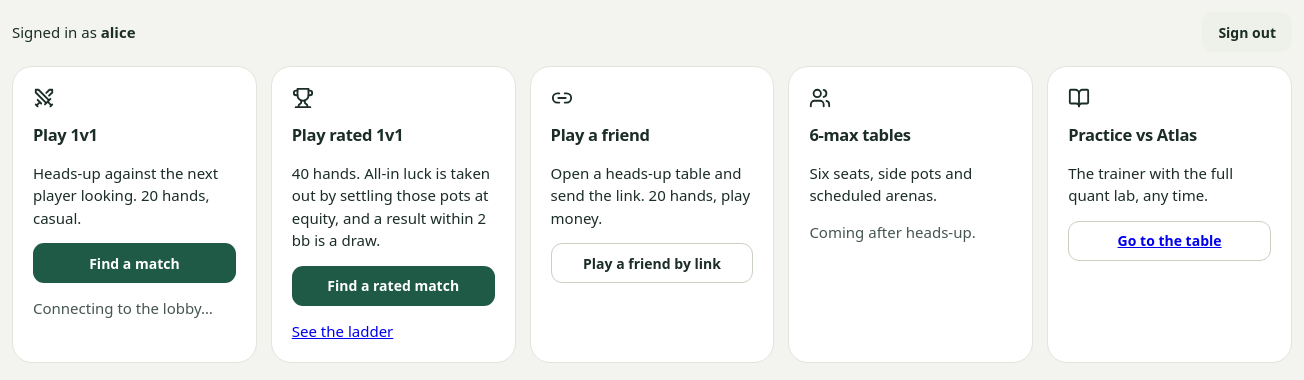
Scenario: Lobby: Play 1v1 › cancels
Click the button "Find a match": (134, 263) [33,243,236,283]
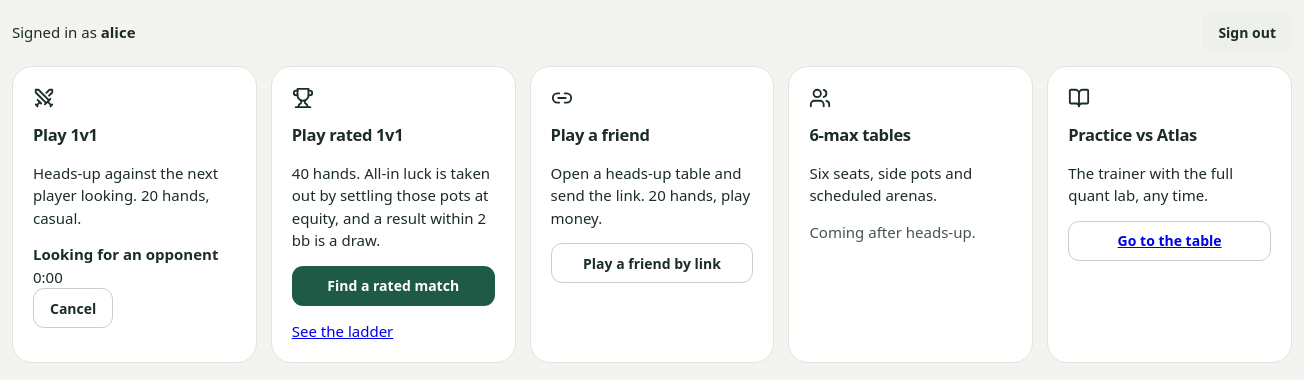
Click the button "Cancel": (73, 308) [33,288,113,328]
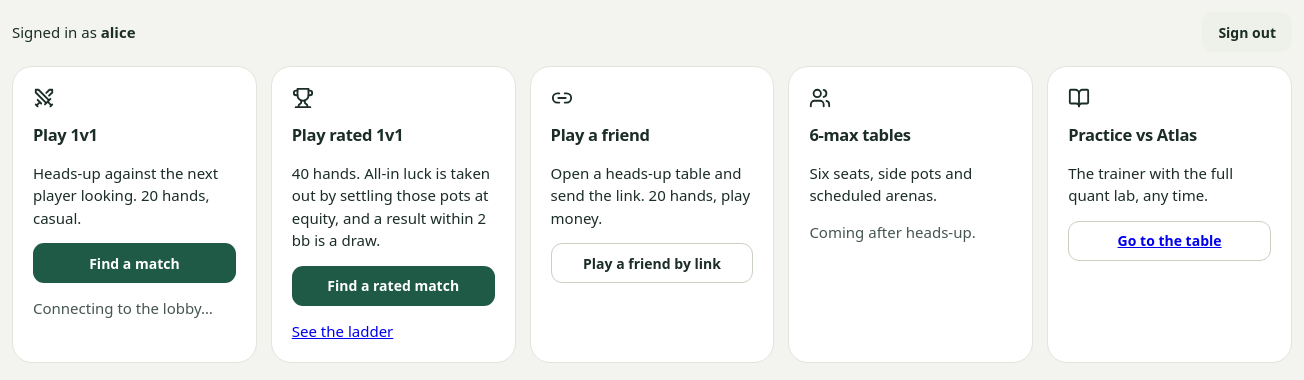
Expected: the button "Find a match" is shown, [33,243,236,283]
